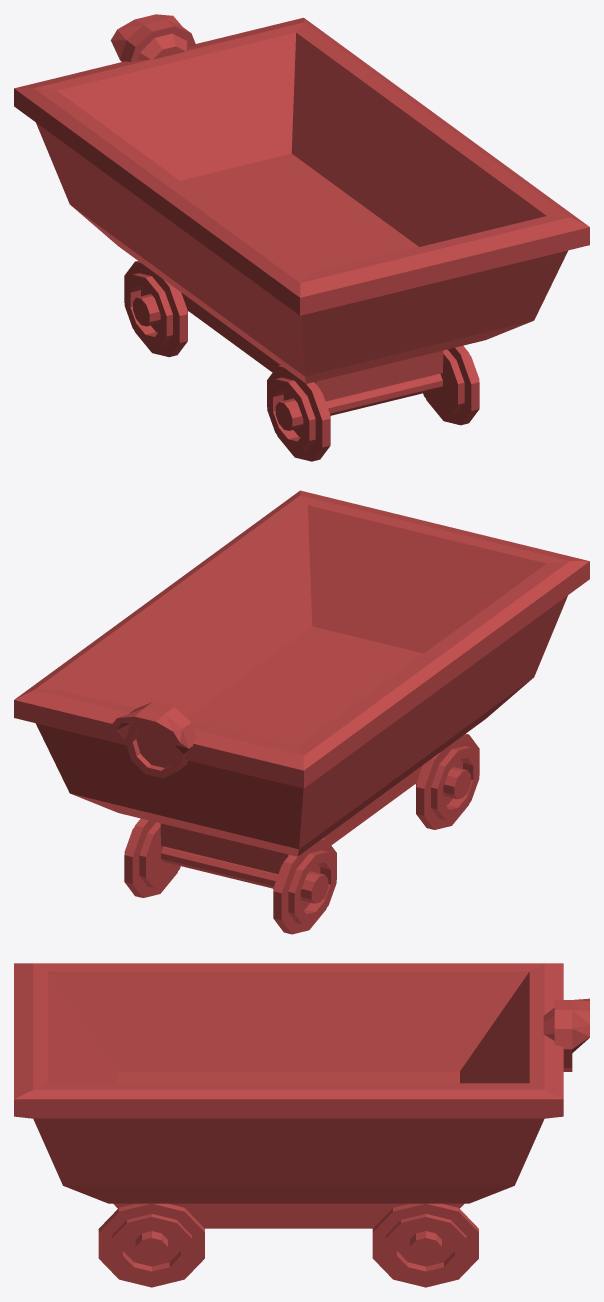
Rendered from cartsecond.fbx.
The picture shows the model from 3 angles, top to bottom: view 1: azimuth 30°, elevation 25°; view 2: azimuth 150°, elevation 25°; view 3: azimuth 270°, elevation 25°; orthographic projection. The views are drawn at different scales.
Visible parts, largest first — view 1: cart; view 2: cart; view 3: cart.
Boxes of the visible parts, box(x1,y1,x2,y2) form: cart: box(14, 14, 589, 461); cart: box(14, 490, 589, 934); cart: box(14, 963, 589, 1287).
Bounding box in the file's own units: 38.4 × 32.4 × 68.81.
